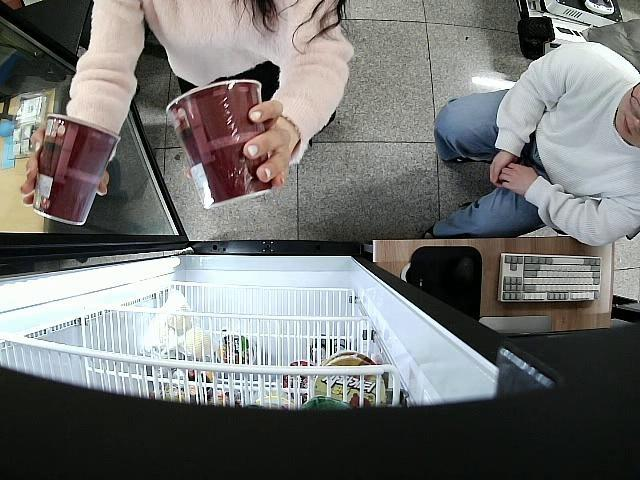06_nuguri_S: (165, 78, 273, 210), (29, 114, 120, 227)
